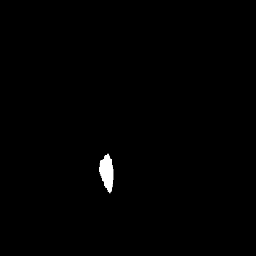mass: (99, 159, 118, 193)
